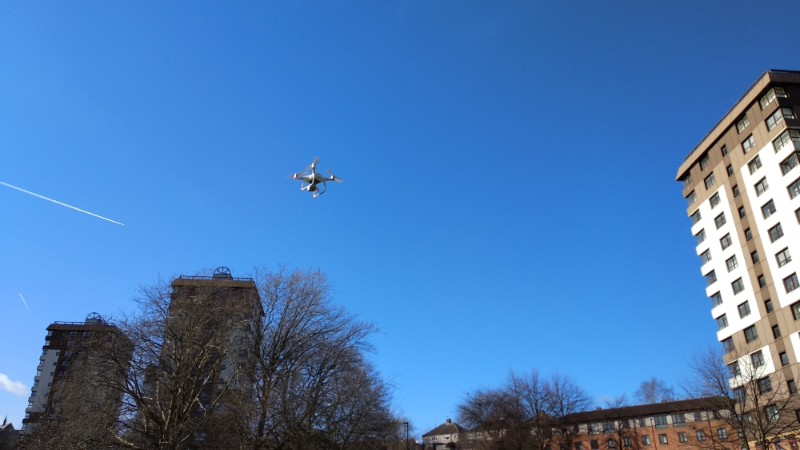drone: (287, 155, 345, 200)
